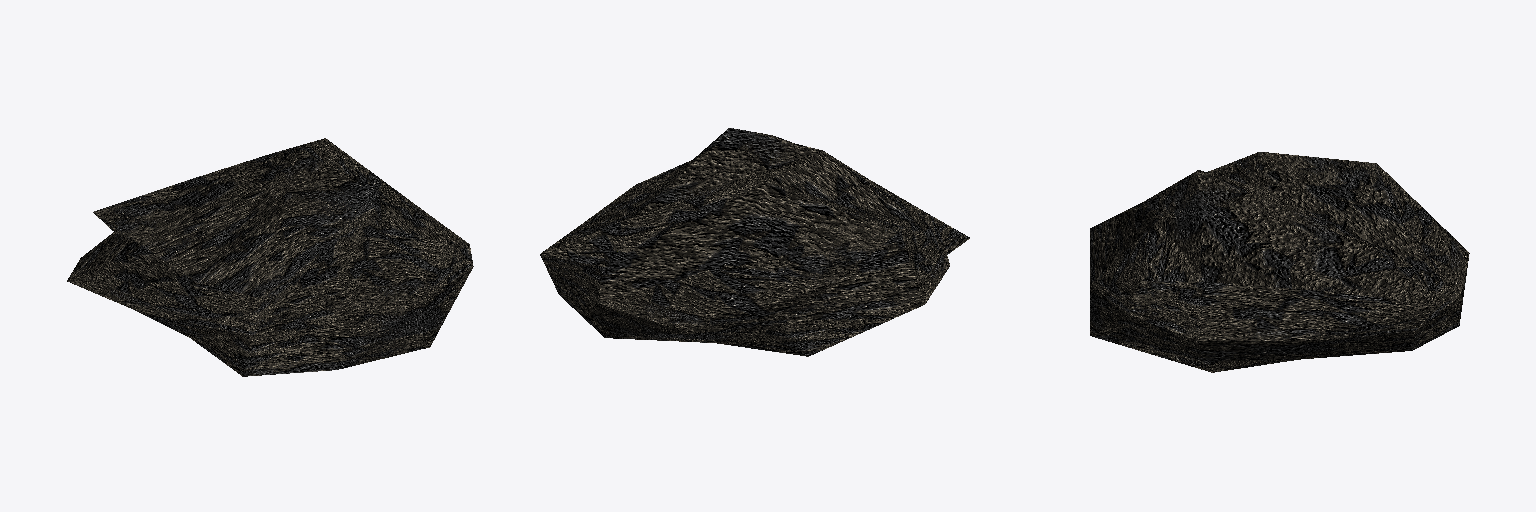
3 views of the same model, side by side, from view 1: azimuth 30°, elevation 25°; view 2: azimuth 150°, elevation 25°; view 3: azimuth 270°, elevation 25° (orthographic).
Visible parts, largest first — view 1: Box001; view 2: Box001; view 3: Box001.
Boxes of the visible parts, x1,y1,x2,y2 form: Box001: [67, 138, 473, 376]; Box001: [540, 128, 969, 356]; Box001: [1090, 152, 1469, 372].
Bounding box in the file's own units: 39.81 × 17.4 × 37.75.
Materials: 1 (1 with a texture image).